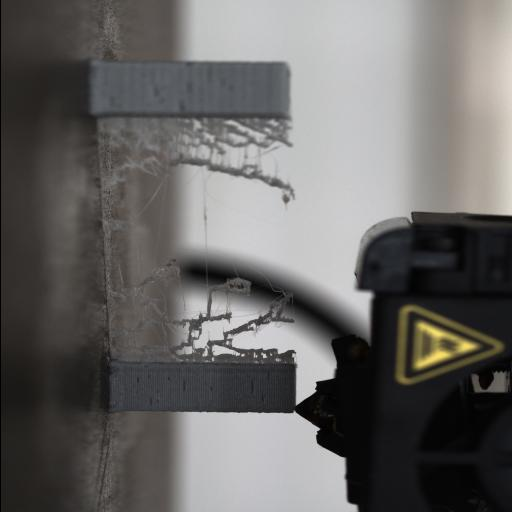stringing: (109, 256, 299, 370), (96, 114, 296, 208)
